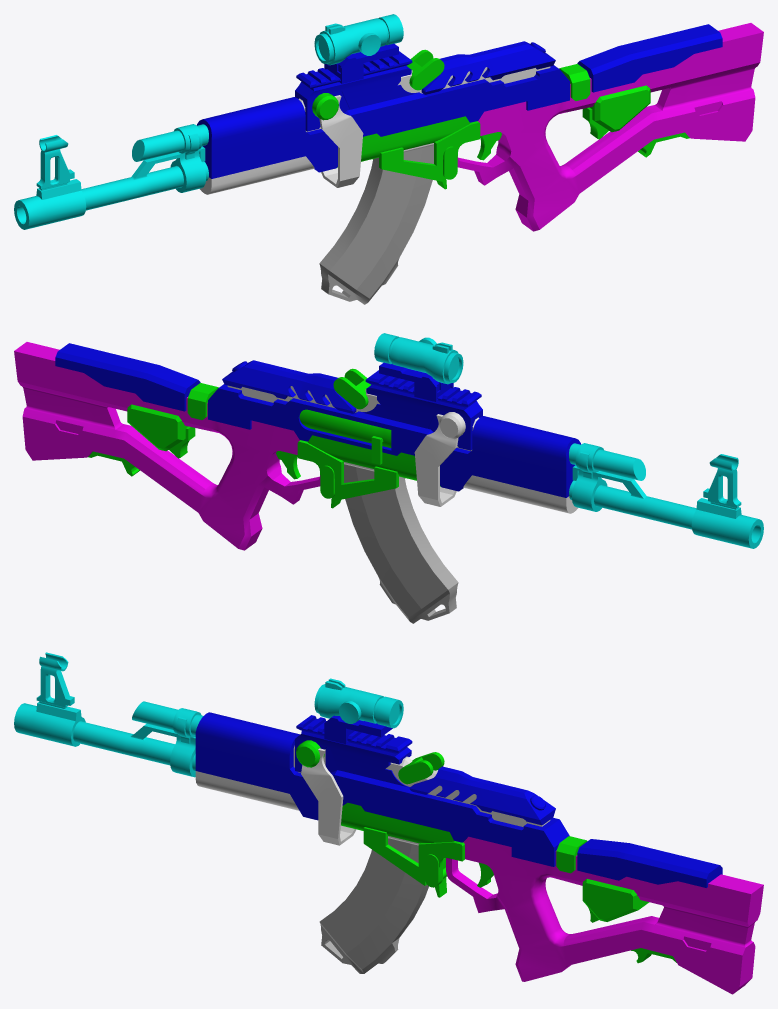
Rendered from model_gun_8.fbx.
The picture shows the model from 3 angles, top to bottom: view 1: azimuth 30°, elevation 25°; view 2: azimuth 150°, elevation 25°; view 3: azimuth 330°, elevation 25°; orthographic projection.
Parts seen in each view (by area): view 1: gun_8; view 2: gun_8; view 3: gun_8.
Boxes of the visible parts, x1,y1,x2,y2 form: gun_8: [14, 14, 763, 304]; gun_8: [14, 333, 763, 623]; gun_8: [14, 652, 763, 994].
Size of the model in its own units: 477 by 176 by 25.67.
